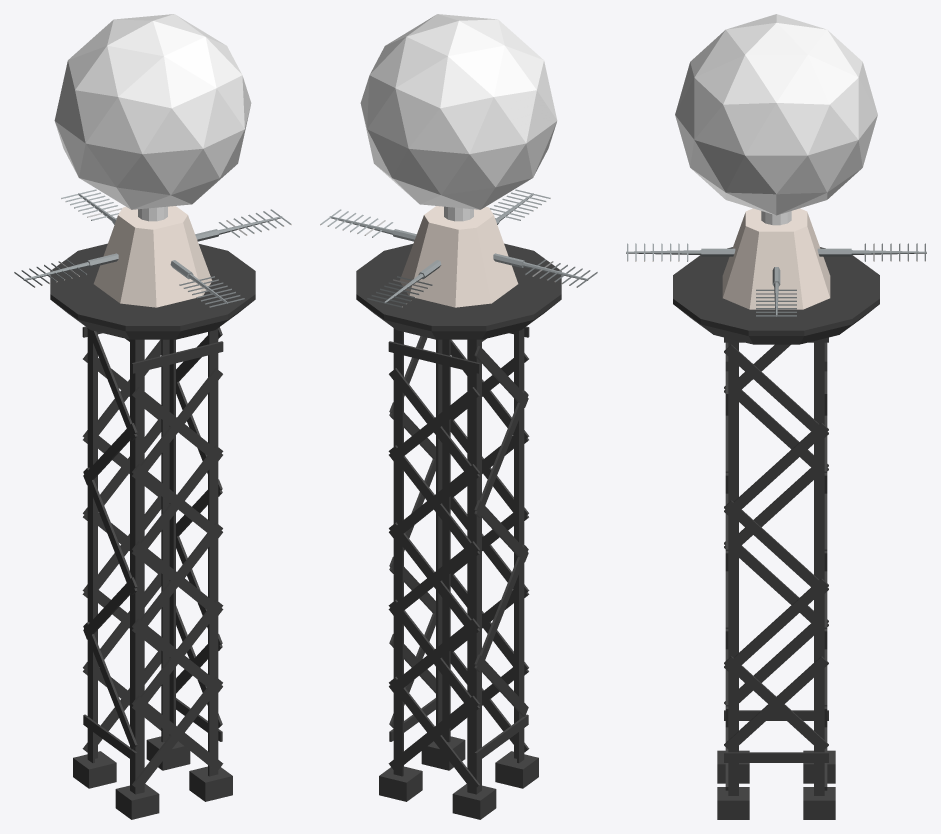
Rendered from novaadvradar.dae.
3 renders of one model, left to right at view 1: azimuth 30°, elevation 25°; view 2: azimuth 150°, elevation 25°; view 3: azimuth 270°, elevation 25°, orthographic.
Parts seen in each view (by area): view 1: Actor0; view 2: Actor0; view 3: Actor0.
Part boxes in pixels (bbox=[...]): Actor0: bbox=[14, 14, 291, 819]; Actor0: bbox=[320, 14, 597, 819]; Actor0: bbox=[626, 14, 926, 819].
Size of the model in its own units: 0.0889 by 0.2519 by 0.0889.
